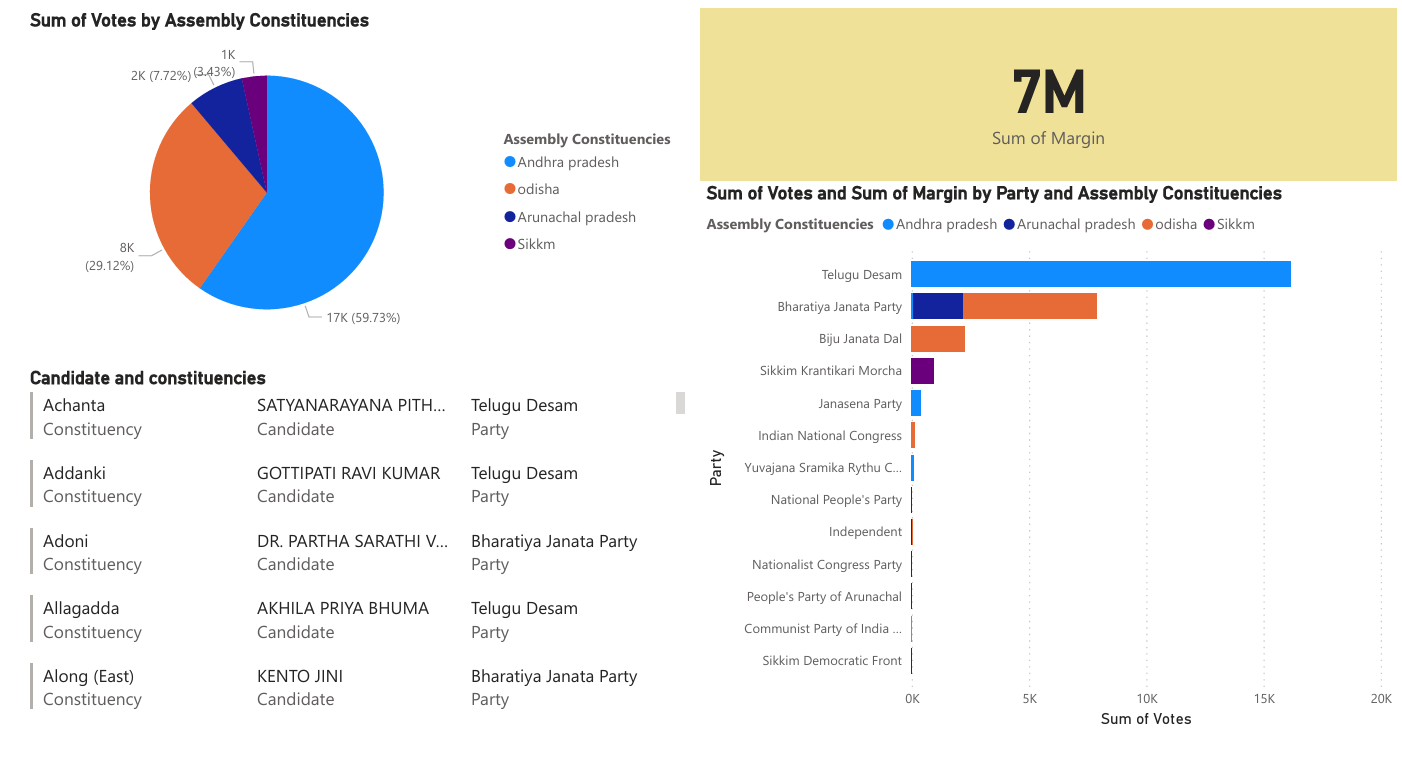

This screenshot's page, from the dashboard's own definition file:
{"tool":"powerbi","page":{"name":"Page 1","canvas":[1280,720],"ordinal":0},"visuals":[{"type":"pieChart","fields":{"Category":["election_results.Assembly Constituencies"],"Y":["election_results.Votes"]},"box":[10,0,615.7,321.4],"z":0},{"type":"multiRowCard","title":"Candidate and constituencies","fields":{"Values":["election_results.Constituency","election_results.Candidate","election_results.Party"]},"box":[10,331,616,321],"z":1000},{"type":"card","fields":{"Values":["election_results.Margin"]},"box":[635,0,645,160],"z":1001},{"type":"barChart","fields":{"Category":["election_results.Party"],"Y":["election_results.Votes"],"Series":["election_results.Assembly Constituencies"]},"box":[635.7,160,644.3,508.6],"z":1002}]}

Visuals, with their boxes in screenshot pixels (x1, y1, x2, y2), scaled from the page's 1280x720 canvas onto the 1402x775 screenshot:
pieChart - election_results.Assembly Constituencies x election_results.Votes: crop(11, 0, 685, 346)
"Candidate and constituencies" multiRowCard: crop(11, 356, 686, 702)
card - election_results.Margin: crop(696, 0, 1401, 172)
barChart - election_results.Party x election_results.Votes: crop(696, 172, 1401, 720)
